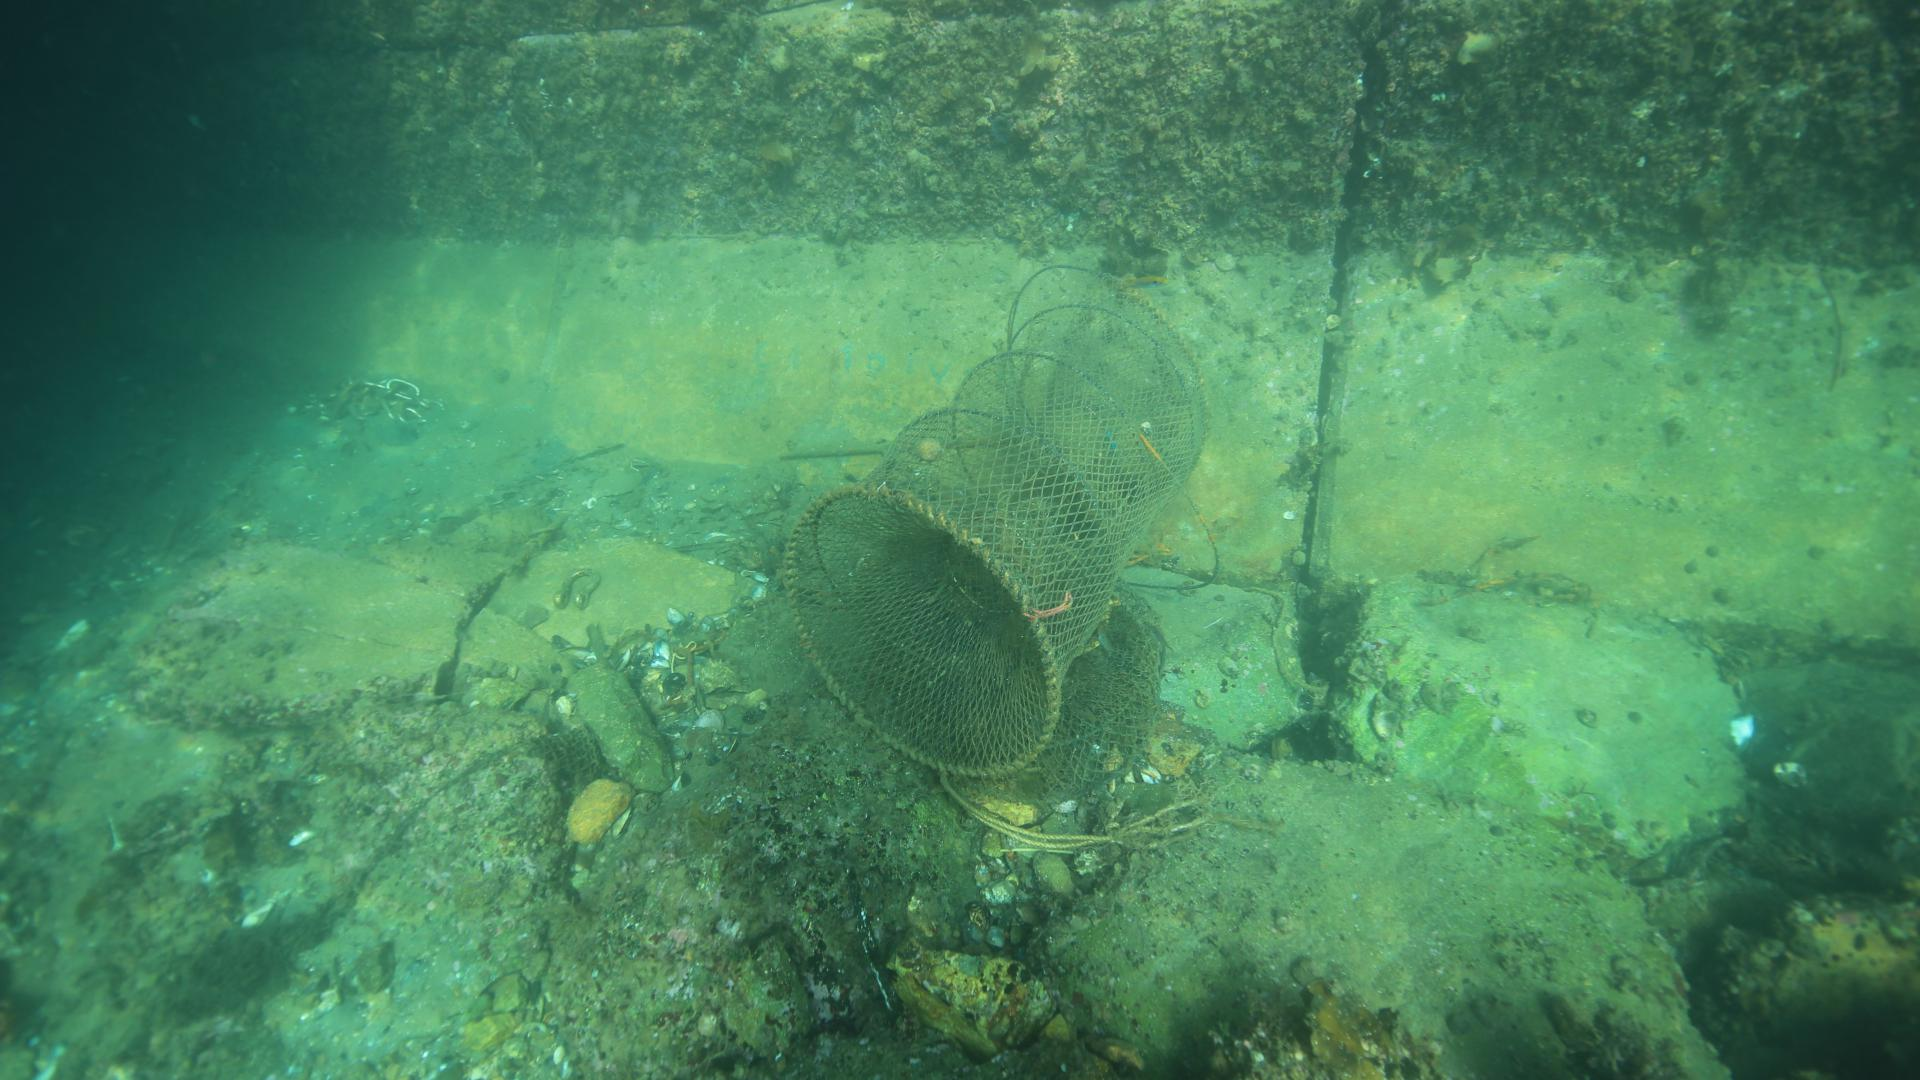spring fish trap: (785, 255, 1209, 778)
